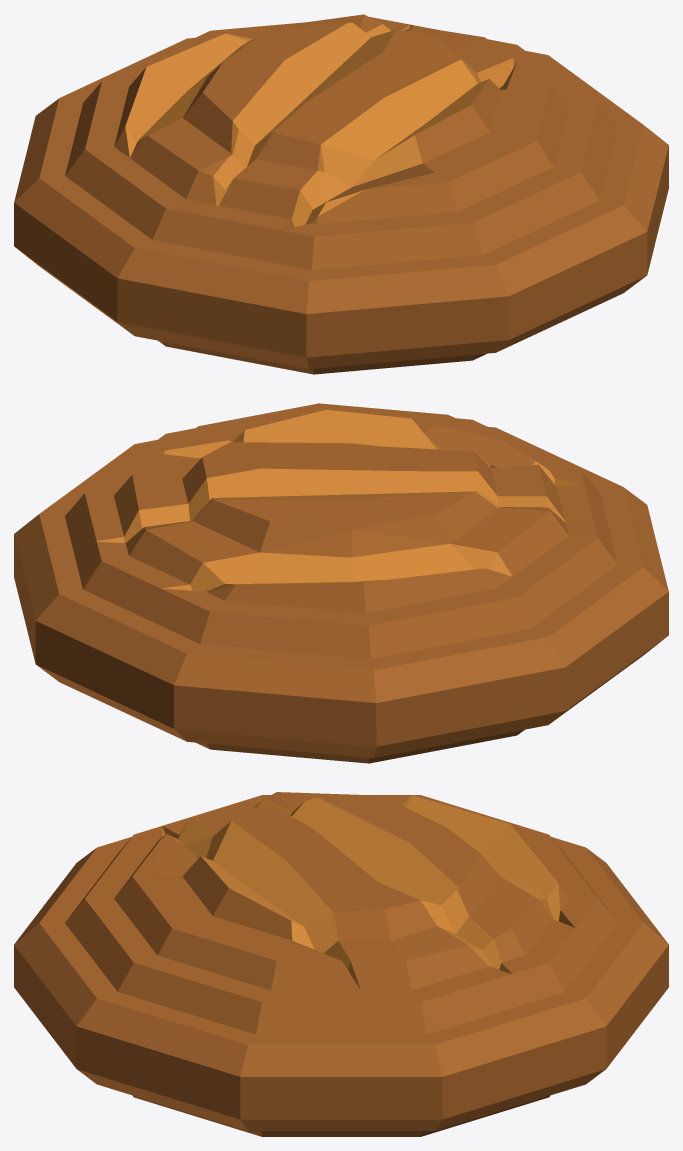
Rendered from bread.fbx.
3 renders of one model, top to bottom at view 1: azimuth 30°, elevation 25°; view 2: azimuth 150°, elevation 25°; view 3: azimuth 270°, elevation 25°, orthographic. The views are drawn at different scales.
Visible parts, largest first — view 1: Circle.005; view 2: Circle.005; view 3: Circle.005.
Boxes of the visible parts, x1=… form: Circle.005: x1=14, y1=14, x2=668, y2=374; Circle.005: x1=14, y1=403, x2=668, y2=763; Circle.005: x1=14, y1=792, x2=668, y2=1136.
Bounding box in the file's own units: 40.54 × 12.99 × 42.61.
